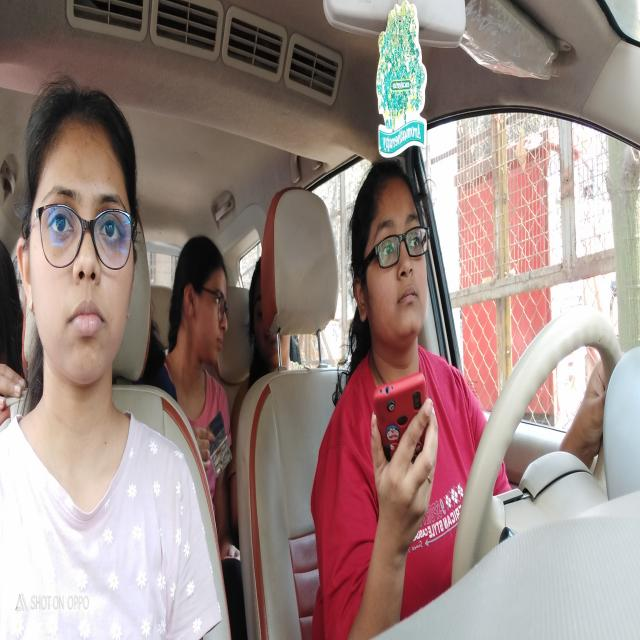mobile: (366, 368, 440, 487)
person: (13, 52, 151, 404), (340, 153, 454, 363), (170, 227, 235, 396), (249, 250, 292, 372)
